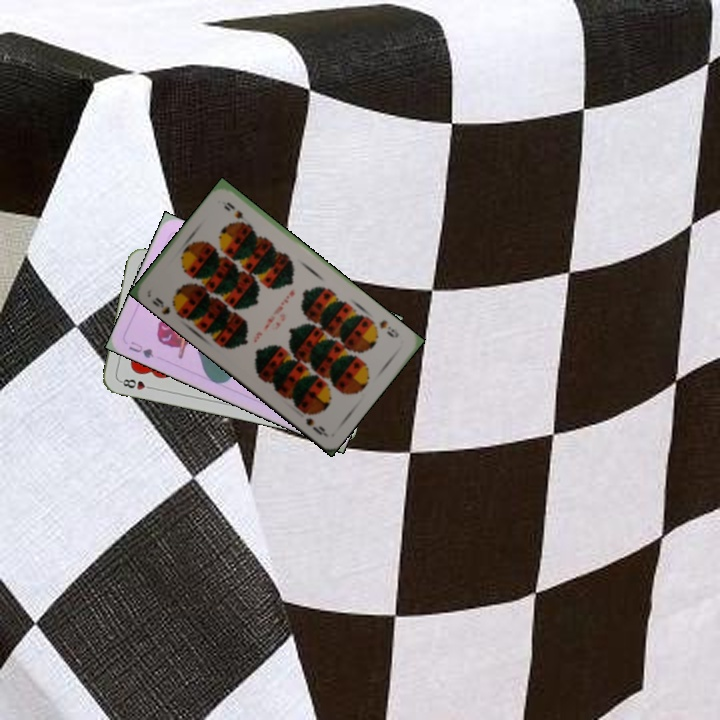GU: (125, 337, 156, 361)
H8: (116, 375, 156, 392)
S9: (376, 316, 402, 341), (148, 293, 173, 317)
